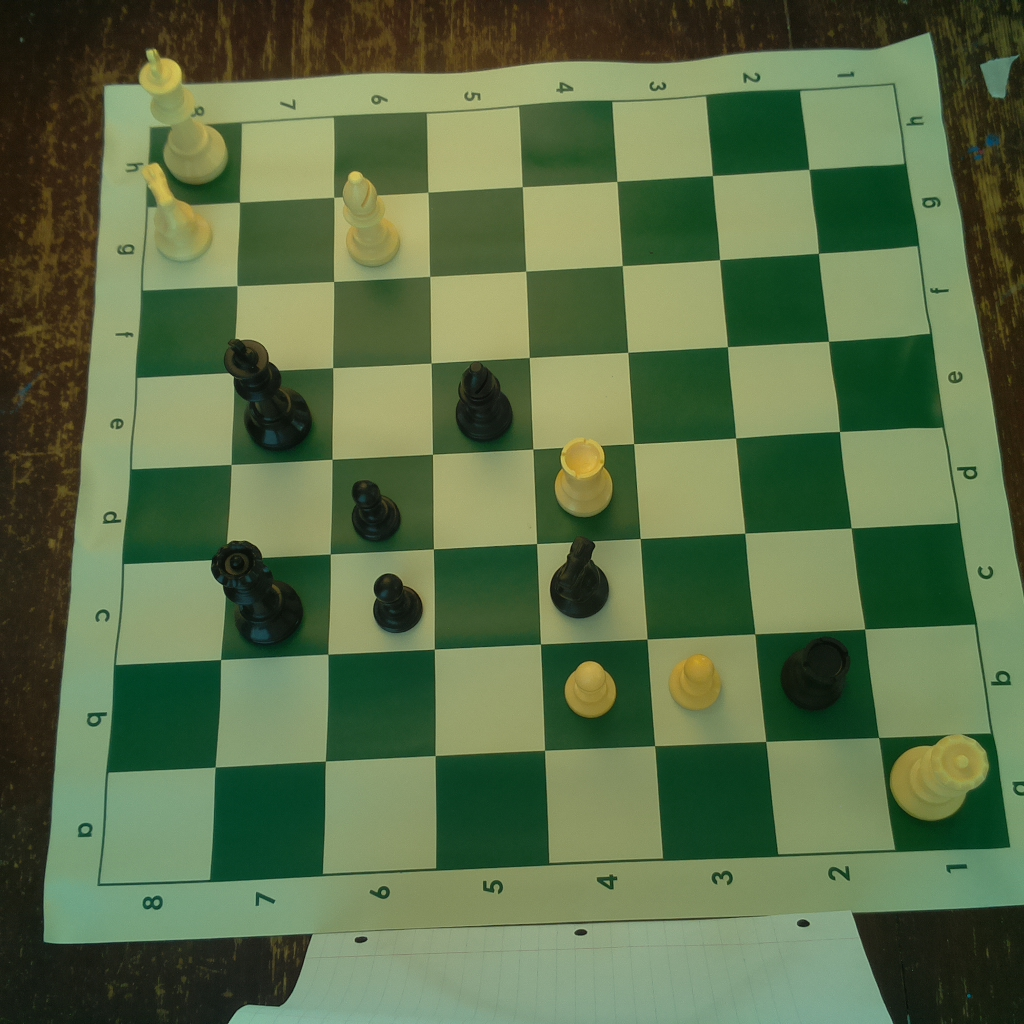black_bishop: (447, 358, 518, 448)
black_king: (216, 335, 316, 453)
black_knight: (540, 532, 611, 615)
black_pawn: (347, 475, 407, 541), (372, 566, 424, 636)
black_queen: (210, 536, 306, 648)
black_rook: (777, 630, 858, 717)
file_a: (99, 735, 1010, 882)
file_b: (110, 623, 990, 774)
file_c: (114, 522, 977, 665)
file_d: (125, 427, 962, 566)
file_e: (132, 332, 945, 467)
file_f: (134, 245, 932, 378)
file_g: (144, 164, 919, 291)
file_h: (146, 87, 906, 208)
outline: (96, 83, 1012, 890)
rank_1: (799, 82, 1010, 853)
rank_2: (706, 90, 897, 854)
rank_3: (614, 95, 781, 862)
rank_4: (520, 102, 664, 864)
rank_5: (425, 106, 551, 873)
rank_6: (321, 113, 434, 874)
rank_7: (211, 117, 336, 883)
rank_8: (99, 125, 240, 887)
white_bishop: (333, 167, 406, 269)
white_king: (133, 44, 233, 188)
white_knight: (134, 162, 215, 266)
white_pawn: (663, 647, 733, 714), (560, 653, 620, 721)
white_queen: (881, 731, 994, 827)
white_rook: (549, 432, 623, 517)
